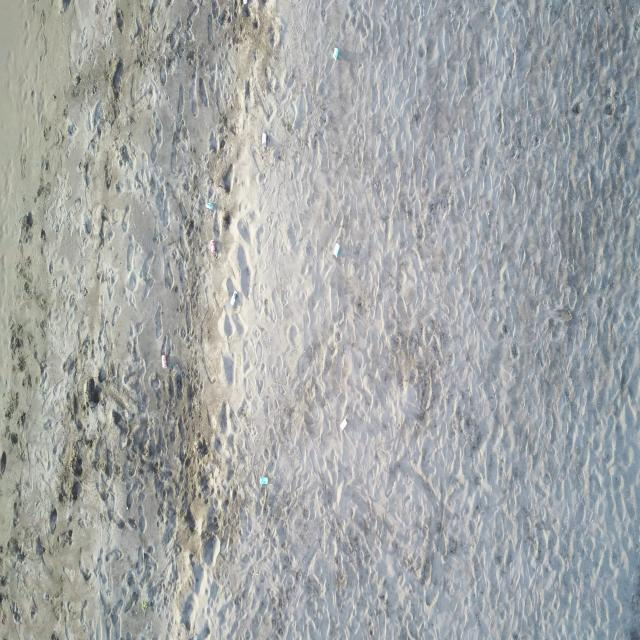Garbage: (209, 240, 216, 256), (231, 289, 238, 304), (160, 353, 167, 367), (261, 131, 267, 147), (340, 417, 347, 430), (332, 47, 339, 60), (333, 243, 339, 256), (260, 475, 267, 484), (206, 200, 212, 208), (243, 0, 247, 4)
